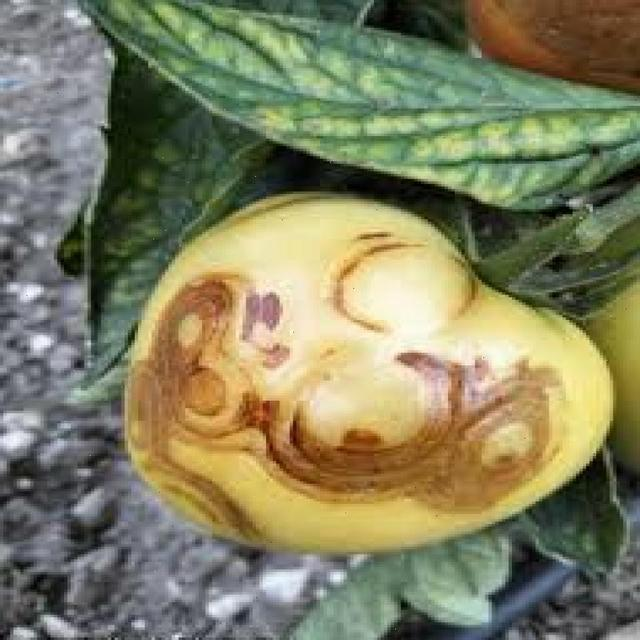Spotted wilt Virus Fruit: (80, 126, 411, 370)
